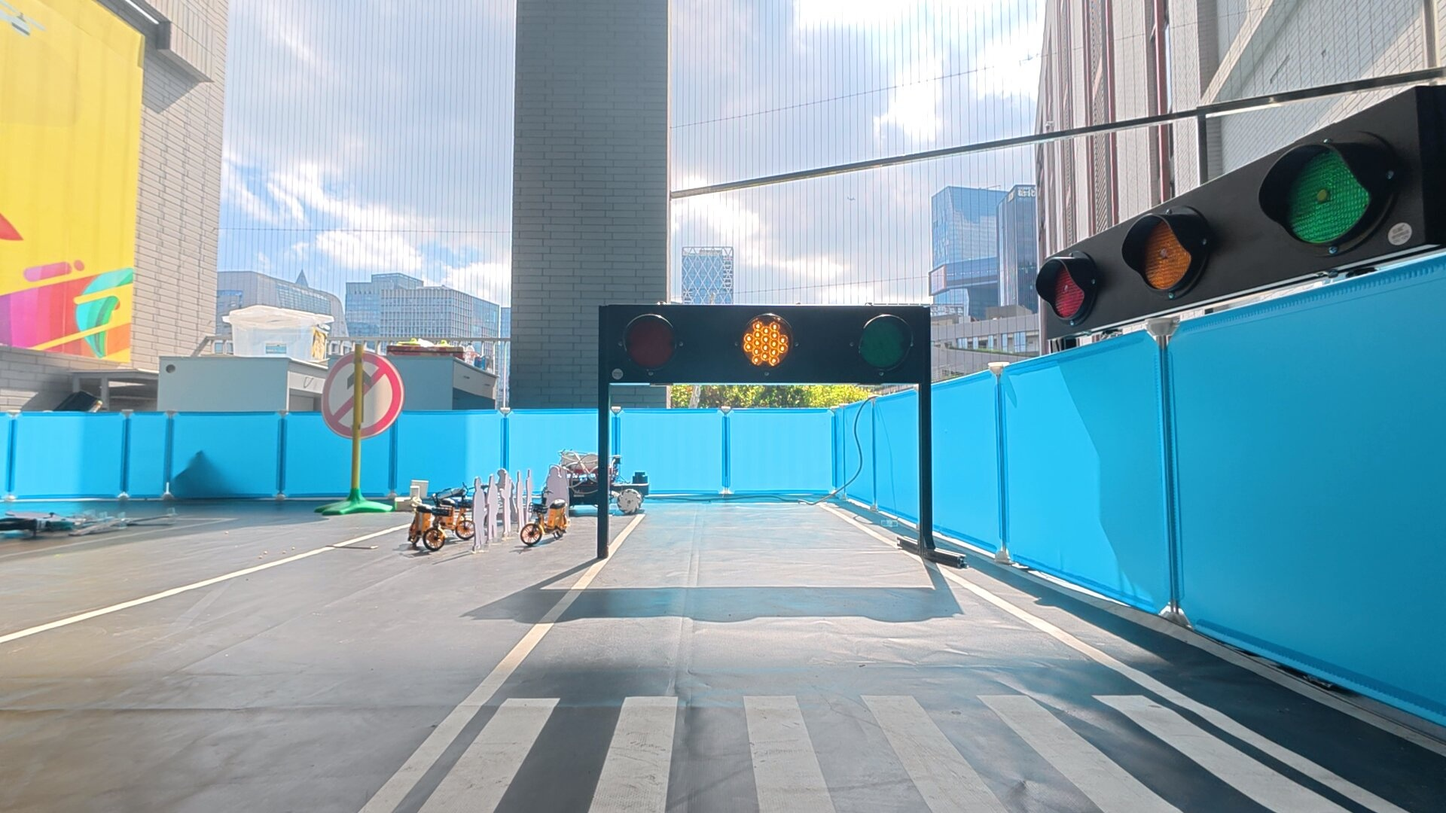stop: (737, 315, 791, 371)
